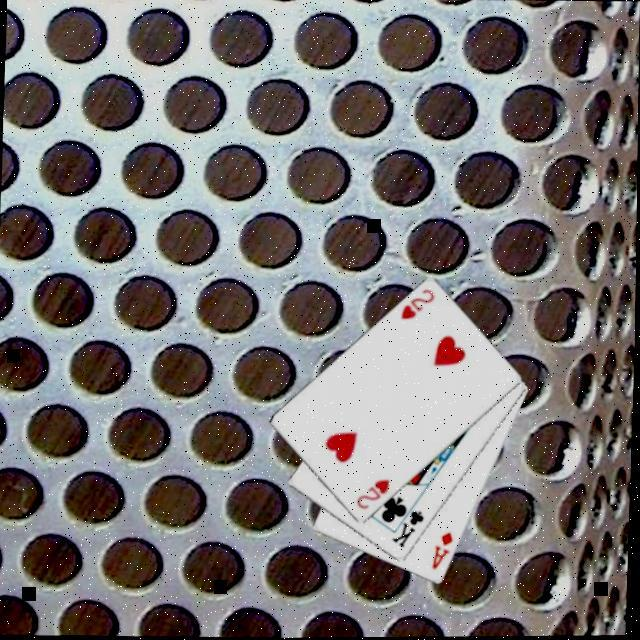2H: (354, 476, 394, 512), (398, 286, 438, 322)
AD: (430, 528, 458, 572)
KC: (390, 498, 430, 550)
